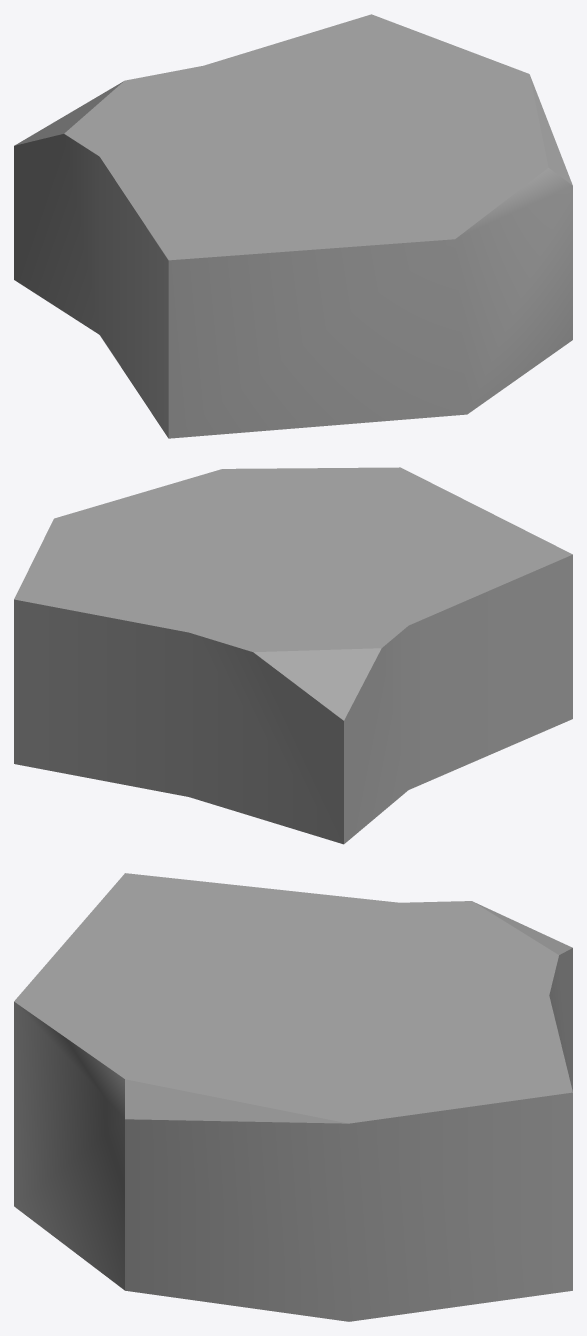
File: Rock 23.FBX
The picture shows the model from 3 angles, top to bottom: view 1: azimuth 30°, elevation 25°; view 2: azimuth 150°, elevation 25°; view 3: azimuth 270°, elevation 25°; orthographic projection. The views are drawn at different scales.
Parts seen in each view (by area): view 1: Box001; view 2: Box001; view 3: Box001.
Boxes of the visible parts, left/top/right/bottom form: Box001: left=14, top=14, right=572, bottom=438; Box001: left=14, top=467, right=572, bottom=844; Box001: left=14, top=873, right=572, bottom=1321.
Bounding box in the file's own units: 29.16 × 10.76 × 27.5.
